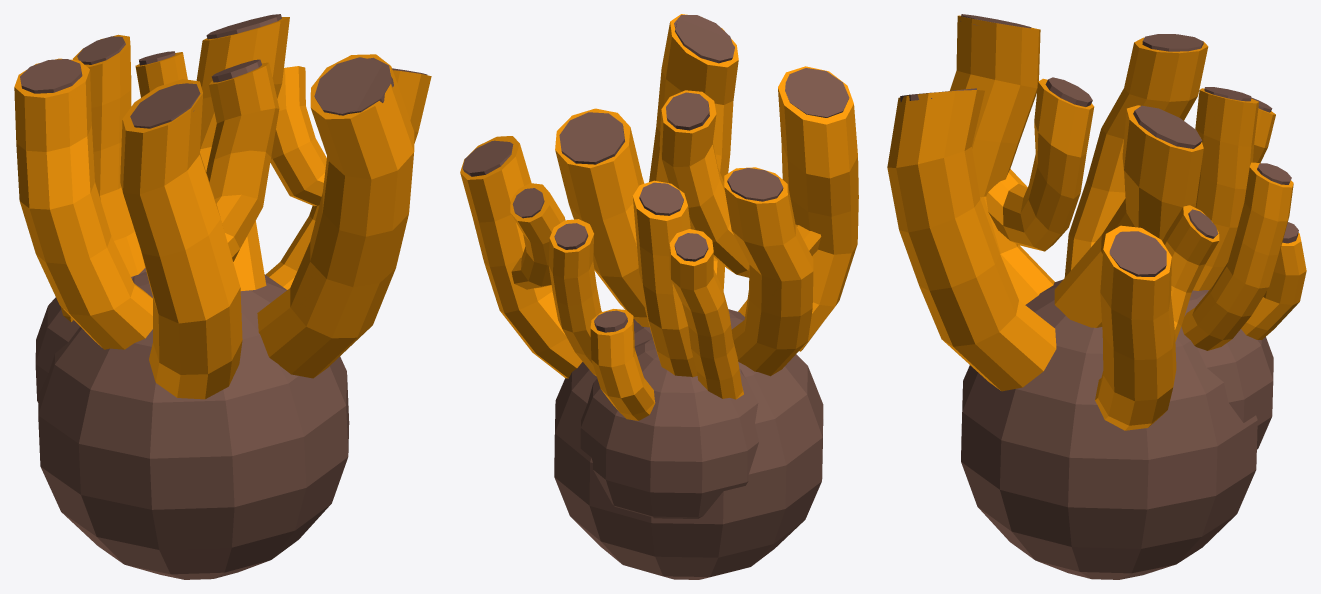
The picture shows the model from 3 angles, left to right: view 1: azimuth 30°, elevation 25°; view 2: azimuth 150°, elevation 25°; view 3: azimuth 270°, elevation 25°; orthographic projection. The views are drawn at different scales.
Visible parts, largest first — view 1: group1965416314; view 2: group1965416314; view 3: group1965416314.
Boxes of the visible parts, left/top/right/bottom form: group1965416314: left=14, top=14, right=431, bottom=579; group1965416314: left=460, top=14, right=858, bottom=579; group1965416314: left=887, top=14, right=1306, bottom=579.
Bounding box in the file's own units: 0.3561 × 0.4642 × 0.3374.
